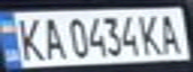0: (63, 15, 87, 58)
3: (103, 14, 124, 57)
4: (118, 11, 142, 56), (84, 14, 106, 58)
A: (154, 10, 187, 54), (36, 14, 66, 61)
K: (9, 14, 48, 62), (136, 10, 166, 56)
